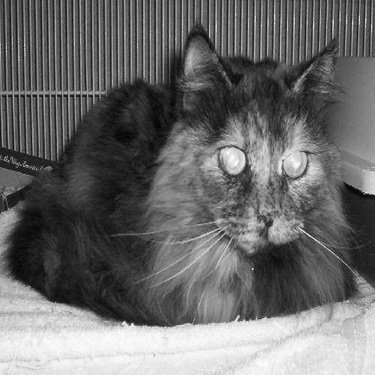cat: (15, 27, 361, 317)
